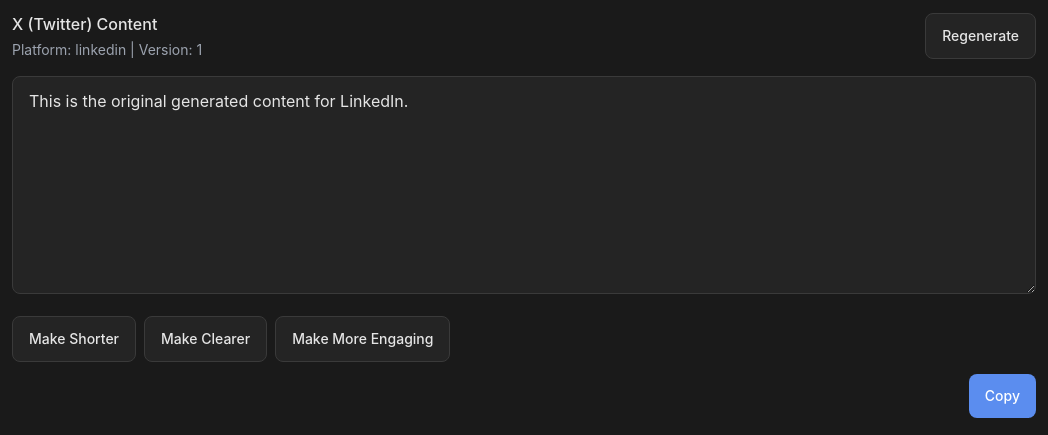
Test: ContentEditor Unit Tests › tracks user edits
Note: Edit the text
Replace the text in the text box with placeholder "Generated content will appear here..." with "This is my edited content." at (524, 185), box [12,76,1036,294]
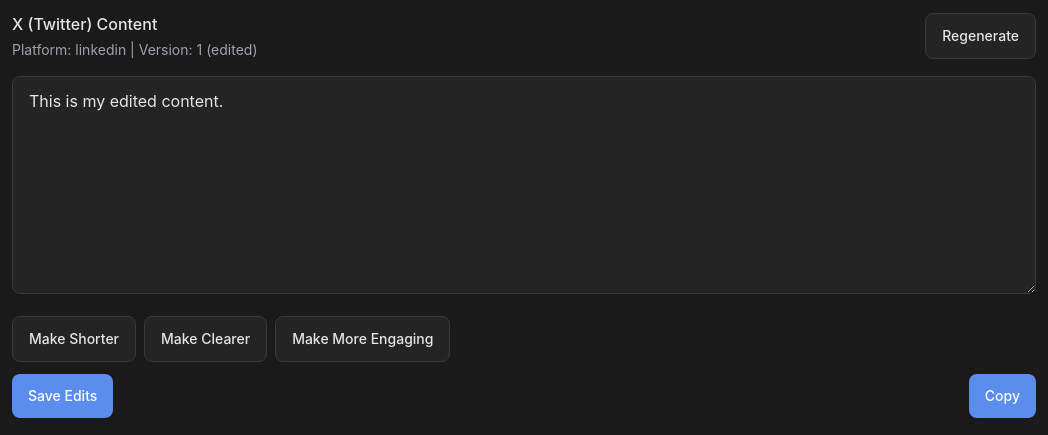
Expected: the button "Save Edits" is shown, [12,374,113,418]
